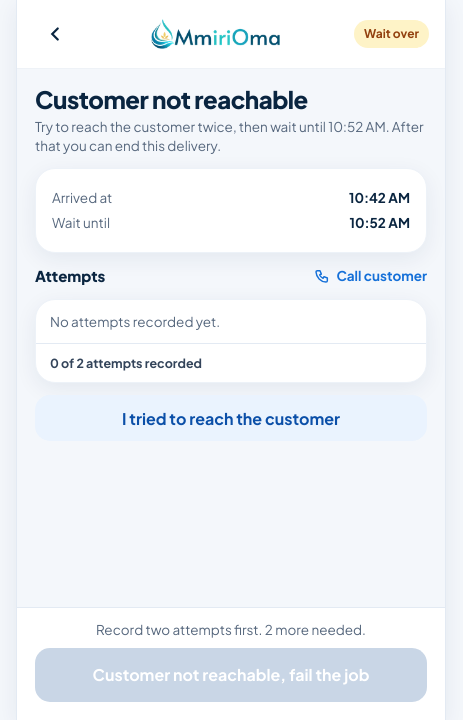
Test case: Customer not reachable (U3) › keeps the end button off until two attempts are recorded, and counts them
This screenshot has width=463, height=720.
Expected: the button "Customer not reachable, fail the job" is disabled, [35,648,427,702]
Expected: the text "No attempts recorded yet." is shown, [50,313,220,330]
Click the button "I tried to reach the customer" at point(231, 418), box [35,396,427,442]
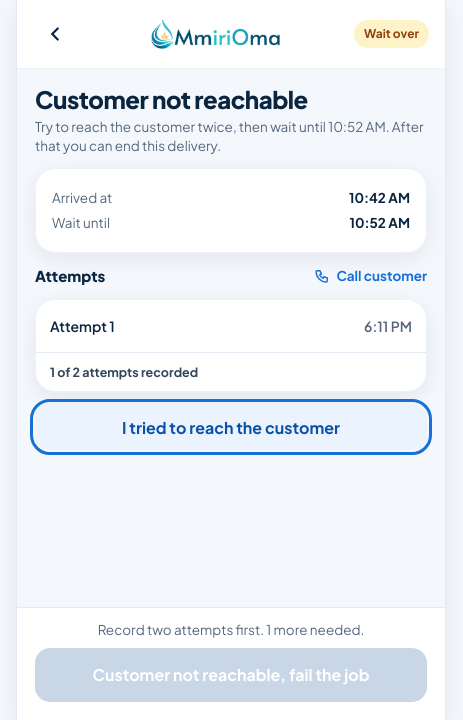
Expected: the text "Attempt 1" is shown, [50,316,115,336]
Expected: the text "Record two attempts first. 1 more needed." is shown, [98,621,364,638]
Click the button "I tried to reach the customer" at point(231, 427), box [35,404,427,450]
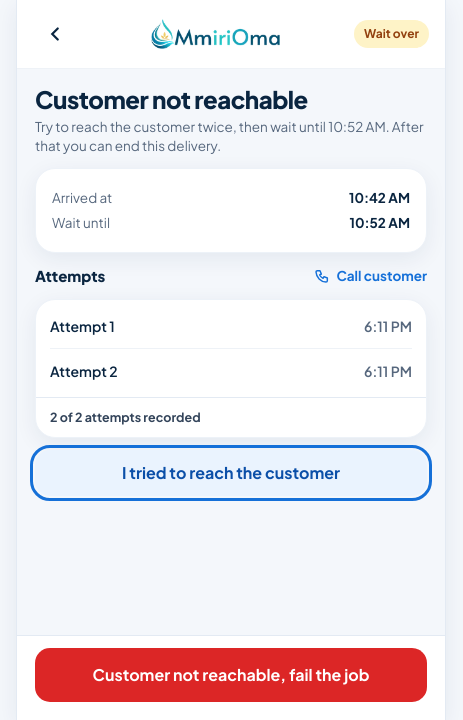
Expected: the text "2 of 2 attempts recorded" is shown, [36,397,426,436]
Expected: the button "Customer not reachable, fail the job" is enabled, [35,648,427,702]
